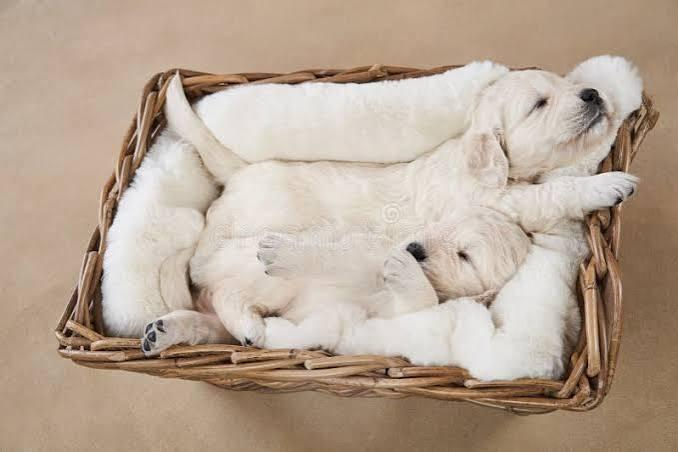puppy-dog: (160, 65, 639, 310), (140, 209, 532, 358)
